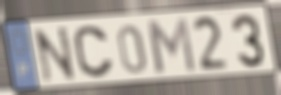0: (115, 23, 150, 75)
2: (191, 14, 230, 73)
3: (230, 12, 267, 69)
C: (71, 24, 116, 80)
M: (143, 15, 199, 76)
N: (31, 24, 79, 85)
